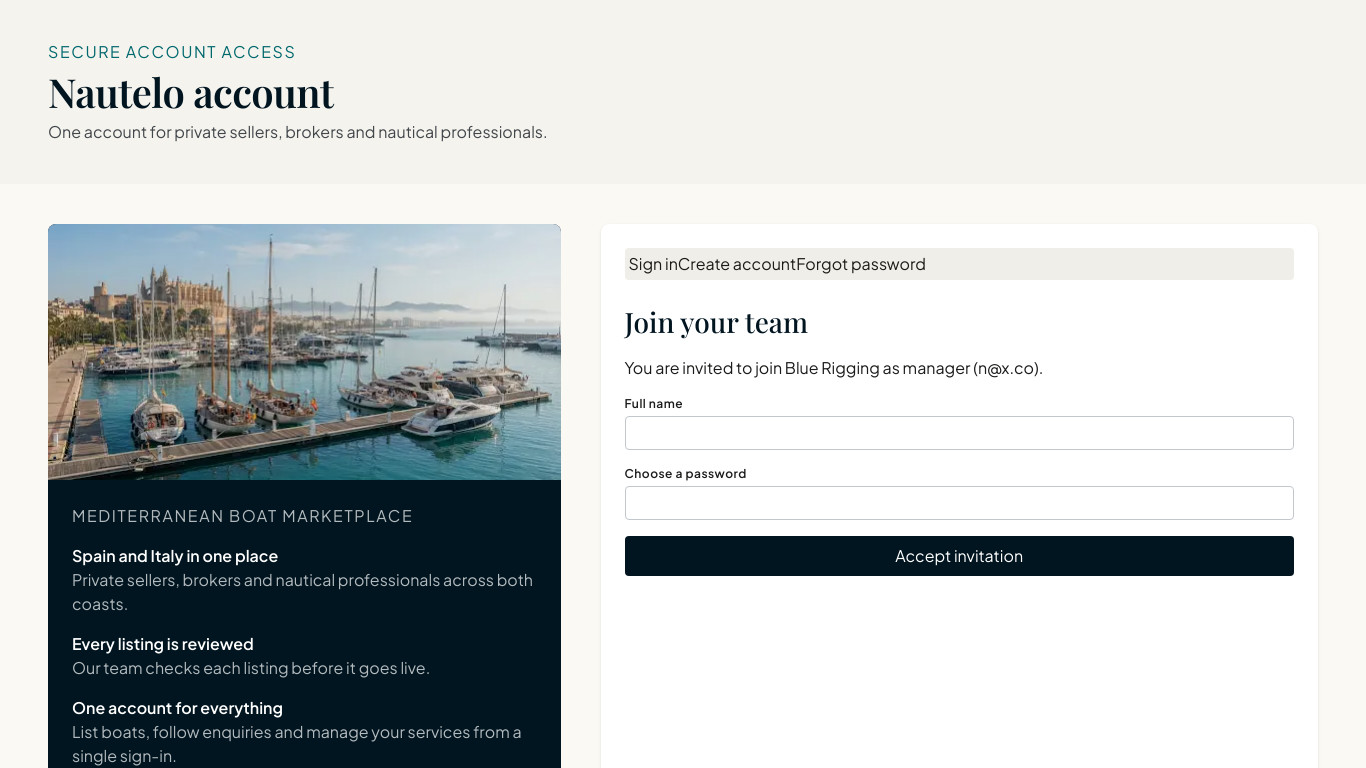
Test case: AcceptInvitePage › lets a new address register into the invited role
Type "Mia" into the field labelled "Full name" at [959, 433], box [624,416,1294,450]
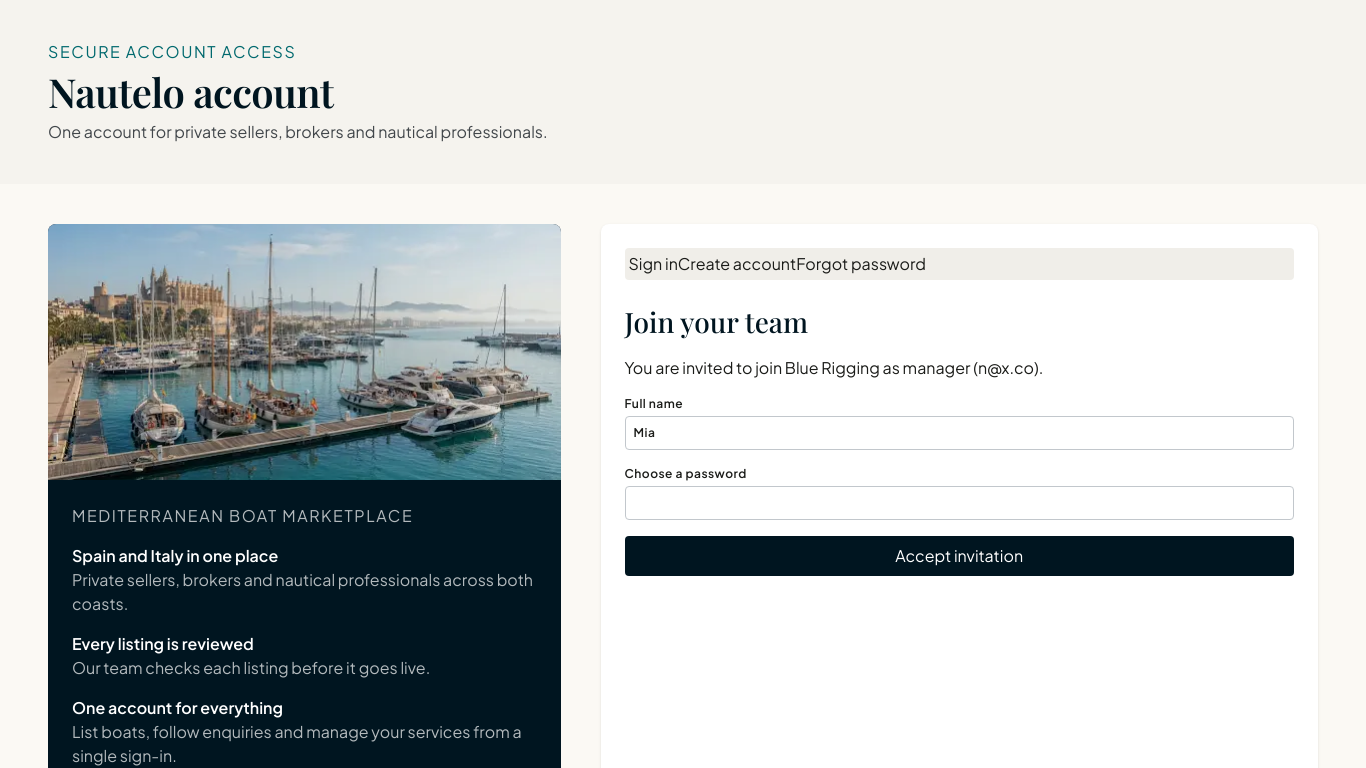
Type "S3cret-pass!" into the password field labelled "Choose a password" at [959, 503], box [624,486,1294,520]
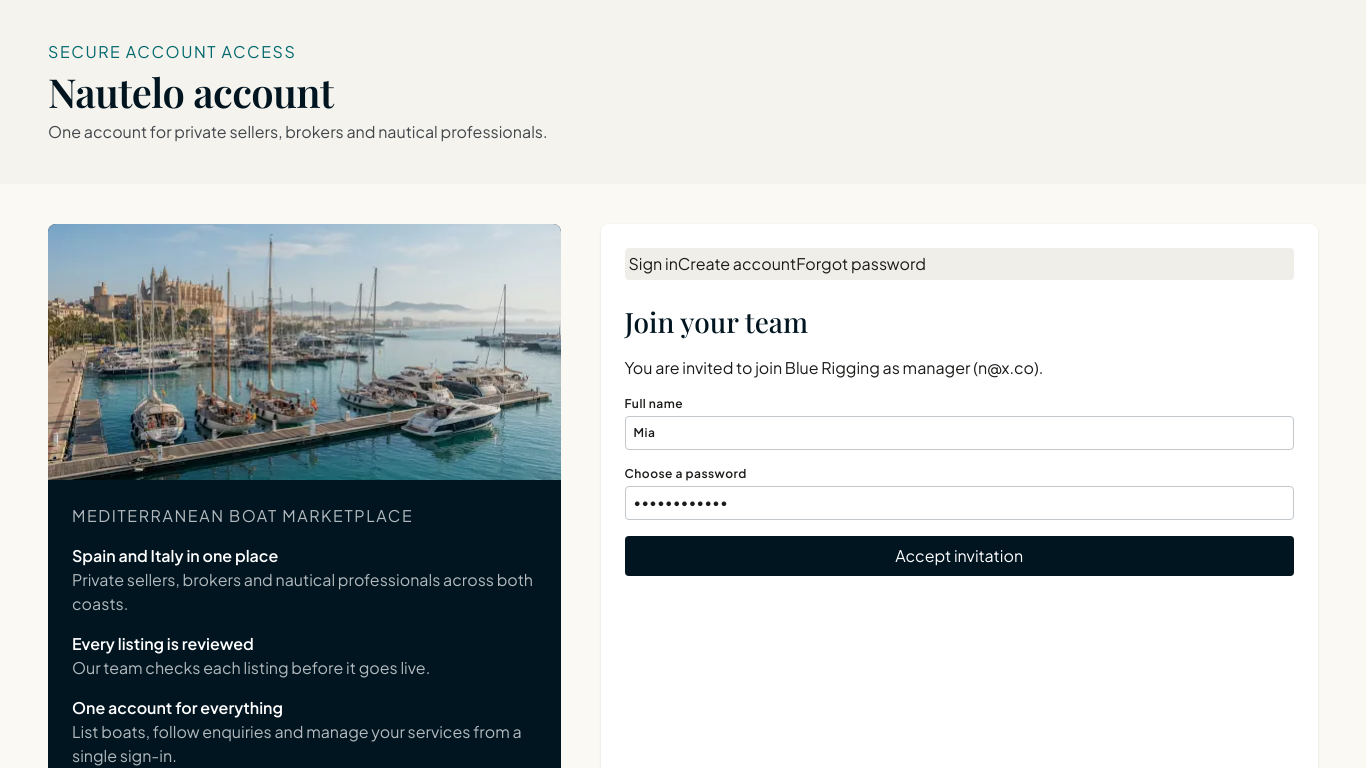
Click the button "Accept invitation" at [959, 556], box [624,536,1294,576]
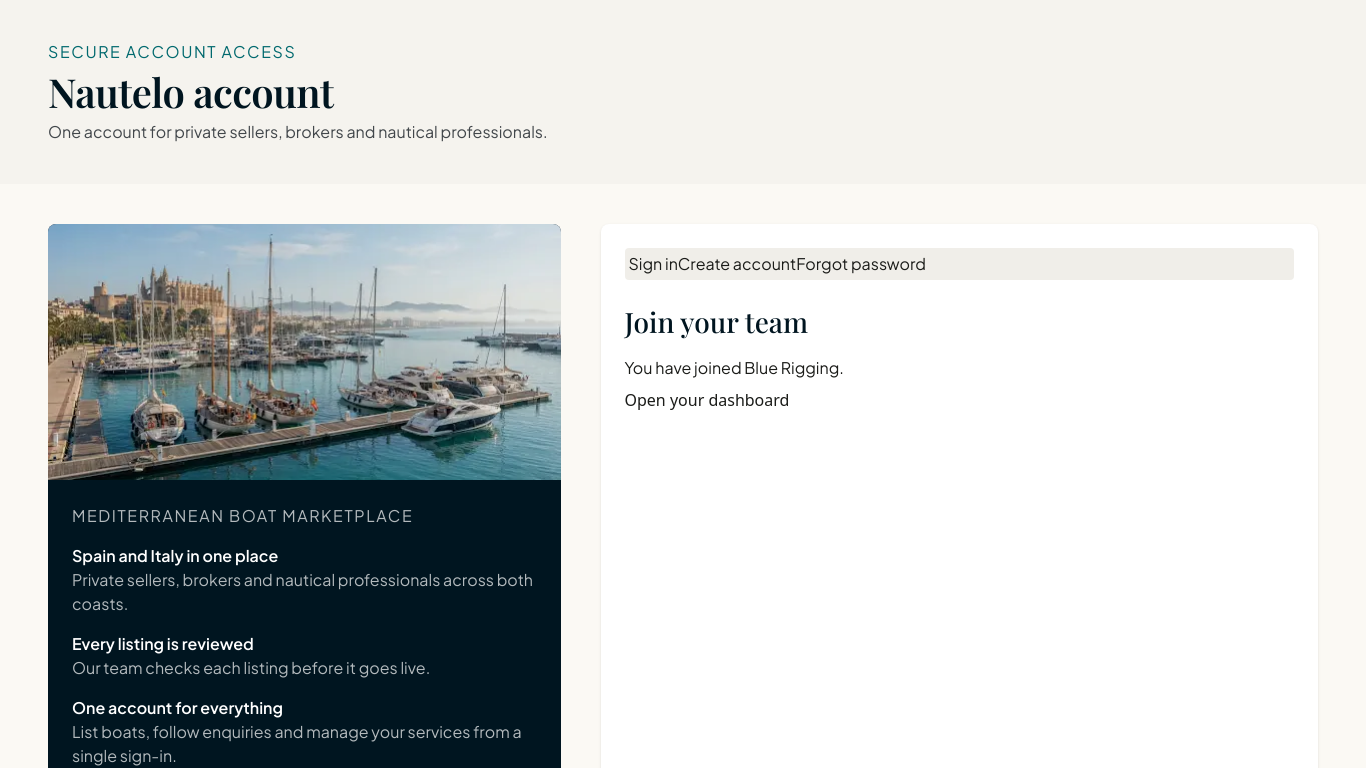
Expected: the message shows "joined Blue Rigging", [624,357,844,378]
